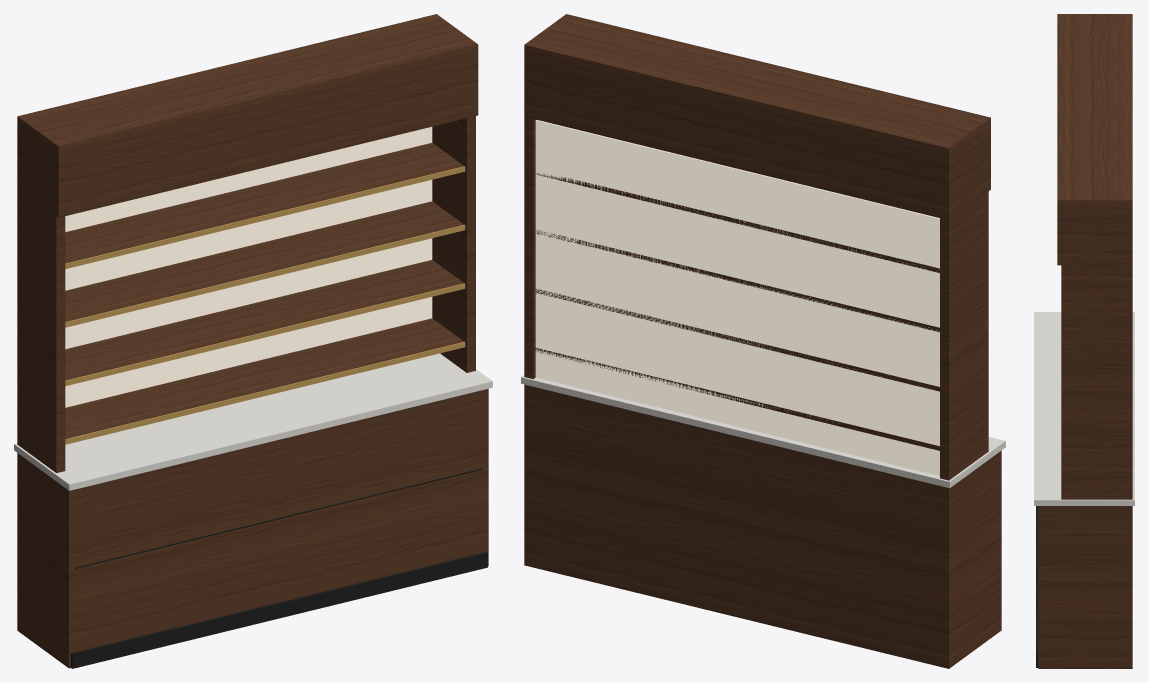
Rendered from Men_Wall_Bay_3.glb.
3 renders of one model, left to right at view 1: azimuth 30°, elevation 25°; view 2: azimuth 150°, elevation 25°; view 3: azimuth 270°, elevation 25°, orthographic. The views are drawn at different scales.
Parts seen in each view (by area): view 1: Men_Wall_Bay_3_Walnut, Men_Wall_Bay_3_Backlit_Panel, Men_Wall_Bay_3_Stone, Men_Wall_Bay_3_Brass, Men_Wall_Bay_3_Black_Metal; view 2: Men_Wall_Bay_3_Walnut, Men_Wall_Bay_3_Backlit_Panel, Men_Wall_Bay_3_Stone; view 3: Men_Wall_Bay_3_Walnut, Men_Wall_Bay_3_Stone, Men_Wall_Bay_3_Black_Metal.
Boxes of the visible parts, left/top/right/bottom form: Men_Wall_Bay_3_Walnut: left=17, top=14, right=488, bottom=668; Men_Wall_Bay_3_Backlit_Panel: left=65, top=127, right=432, bottom=407; Men_Wall_Bay_3_Stone: left=14, top=353, right=492, bottom=490; Men_Wall_Bay_3_Brass: left=65, top=166, right=465, bottom=444; Men_Wall_Bay_3_Black_Metal: left=71, top=468, right=487, bottom=668; Men_Wall_Bay_3_Walnut: left=524, top=14, right=1001, bottom=668; Men_Wall_Bay_3_Backlit_Panel: left=535, top=120, right=939, bottom=475; Men_Wall_Bay_3_Stone: left=521, top=375, right=1005, bottom=488; Men_Wall_Bay_3_Walnut: left=1038, top=14, right=1132, bottom=668; Men_Wall_Bay_3_Stone: left=1034, top=312, right=1134, bottom=505; Men_Wall_Bay_3_Black_Metal: left=1036, top=506, right=1038, bottom=667.
Bounding box in the file's own units: 2.12 × 2.46 × 0.48.
6 materials, 1 textured.
